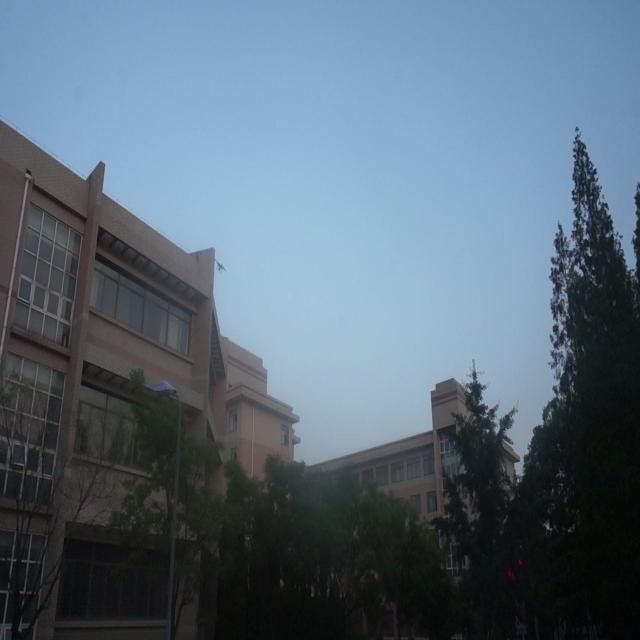drone: (215, 254, 227, 278)
